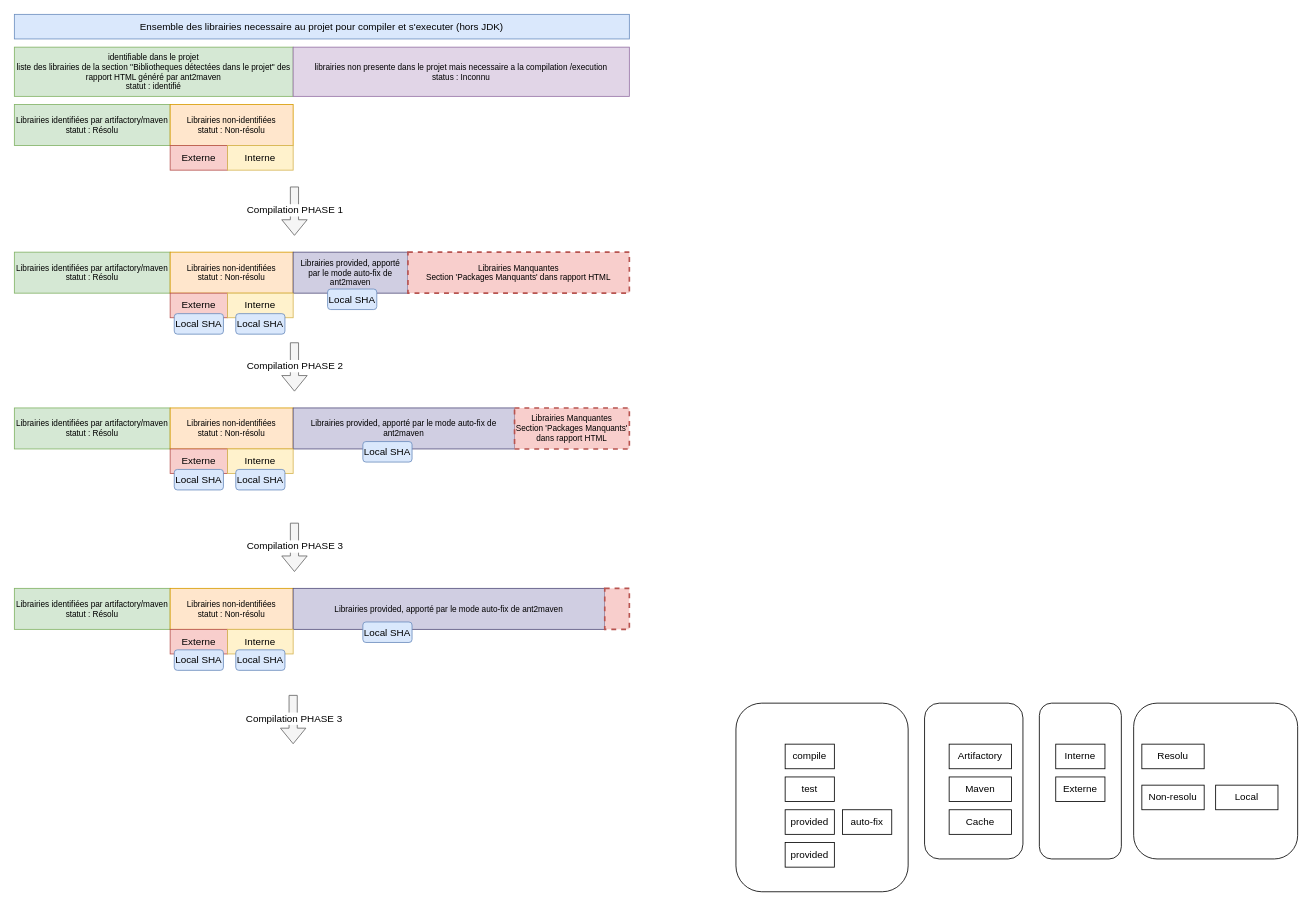
This 1312x906 diagram has some shape labels left out. Each missing label, with the box of its shape:
Identifier: (924, 702, 1023, 859)
LM: (604, 587, 630, 630)
SCOPE: (735, 702, 908, 892)
status: (1133, 702, 1298, 859)
type: (1039, 702, 1121, 859)
